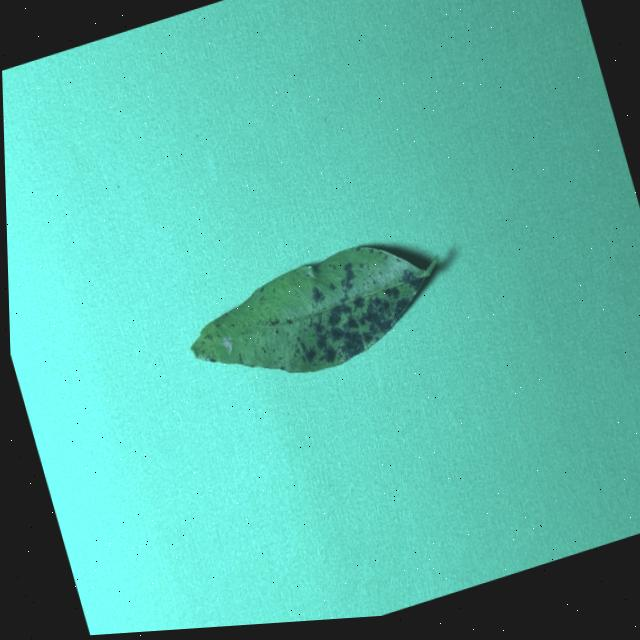sooty_mold: (190, 247, 434, 372)
